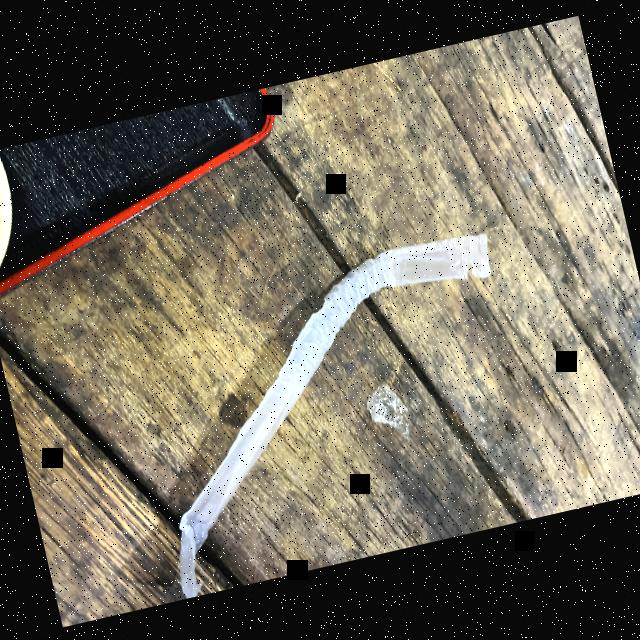scrap_plastic: (106, 205, 570, 599)
